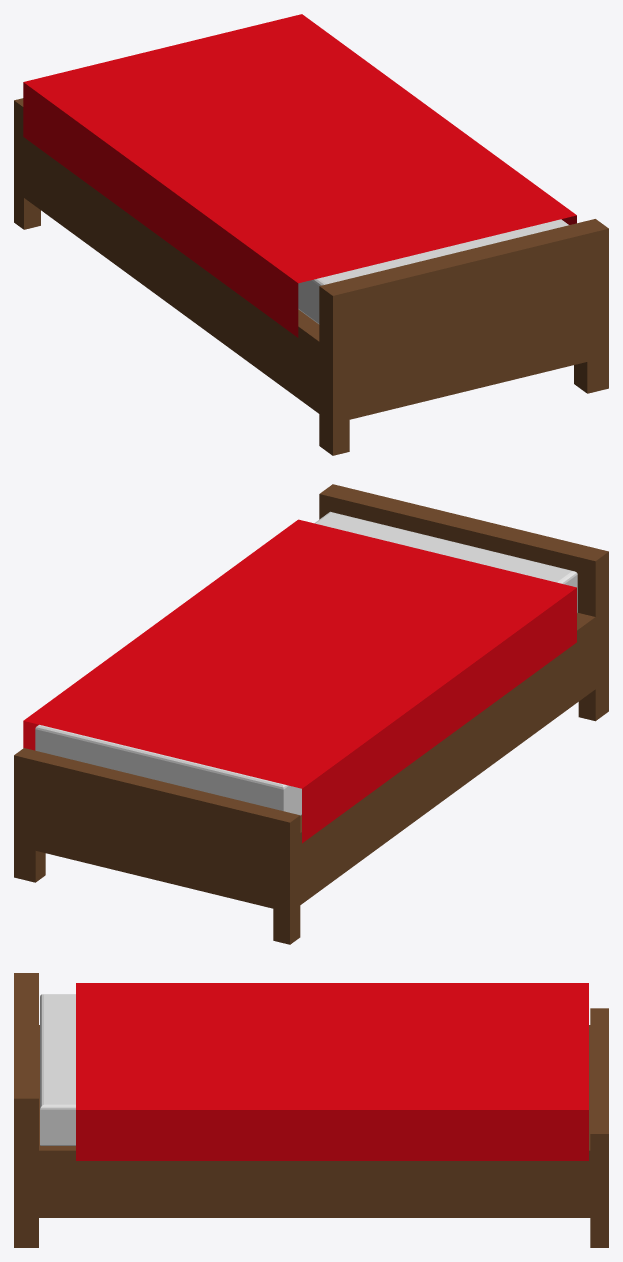
Rendered from bed_1.glb.
3 renders of one model, top to bottom at view 1: azimuth 30°, elevation 25°; view 2: azimuth 150°, elevation 25°; view 3: azimuth 270°, elevation 25°, orthographic. The views are drawn at different scales.
Visible parts, largest first — view 1: Sheets, Bed, Matress; view 2: Sheets, Bed, Matress; view 3: Sheets, Bed, Matress.
Part boxes in pixels (x1,y1,x2,y2): Sheets: (23,14,576,337); Bed: (14,98,608,455); Matress: (298,219,568,324); Sheets: (23,519,576,843); Bed: (14,484,608,944); Matress: (35,511,577,815); Sheets: (76,983,588,1160); Bed: (14,973,608,1247); Matress: (40,994,75,1145).
Size of the model in its own units: 2.02 by 1.11 by 4.
